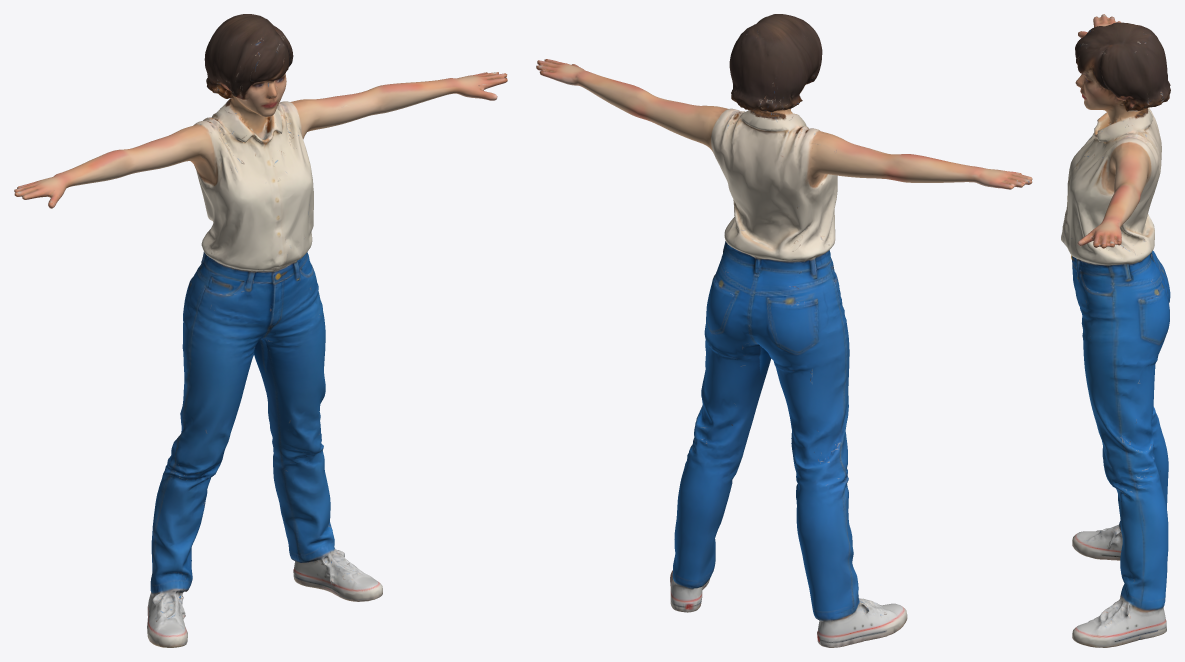
File: T_Pose_on_Green_Backg_0124090232_texture.fbx
The picture shows the model from 3 angles, left to right: view 1: azimuth 30°, elevation 25°; view 2: azimuth 150°, elevation 25°; view 3: azimuth 270°, elevation 25°; orthographic projection. The views are drawn at different scales.
Visible parts, largest first — view 1: Mesh1.0; view 2: Mesh1.0; view 3: Mesh1.0.
Part boxes in pixels (x1,y1,x2,y2): Mesh1.0: (14, 14, 507, 647); Mesh1.0: (536, 14, 1032, 647); Mesh1.0: (1061, 14, 1170, 647).
Bounding box in the file's own units: 166 × 191 × 33.31.
1 material, 1 textured.
